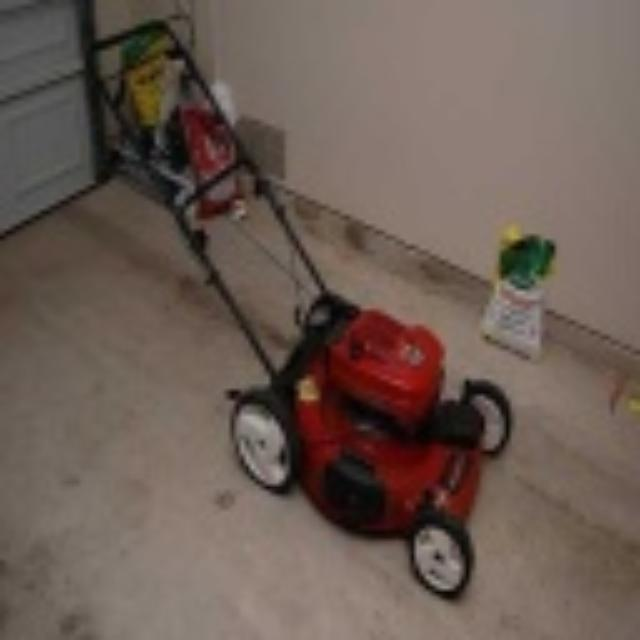Rotary-Mower: (81, 23, 542, 603)
